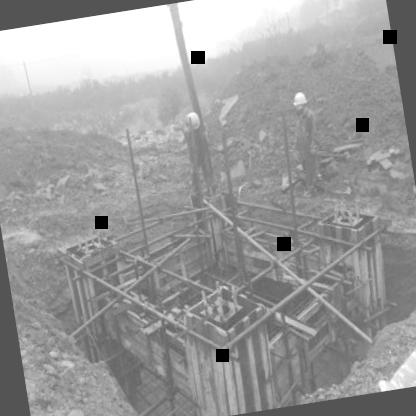helmet: (286, 86, 312, 119), (180, 110, 204, 134)
